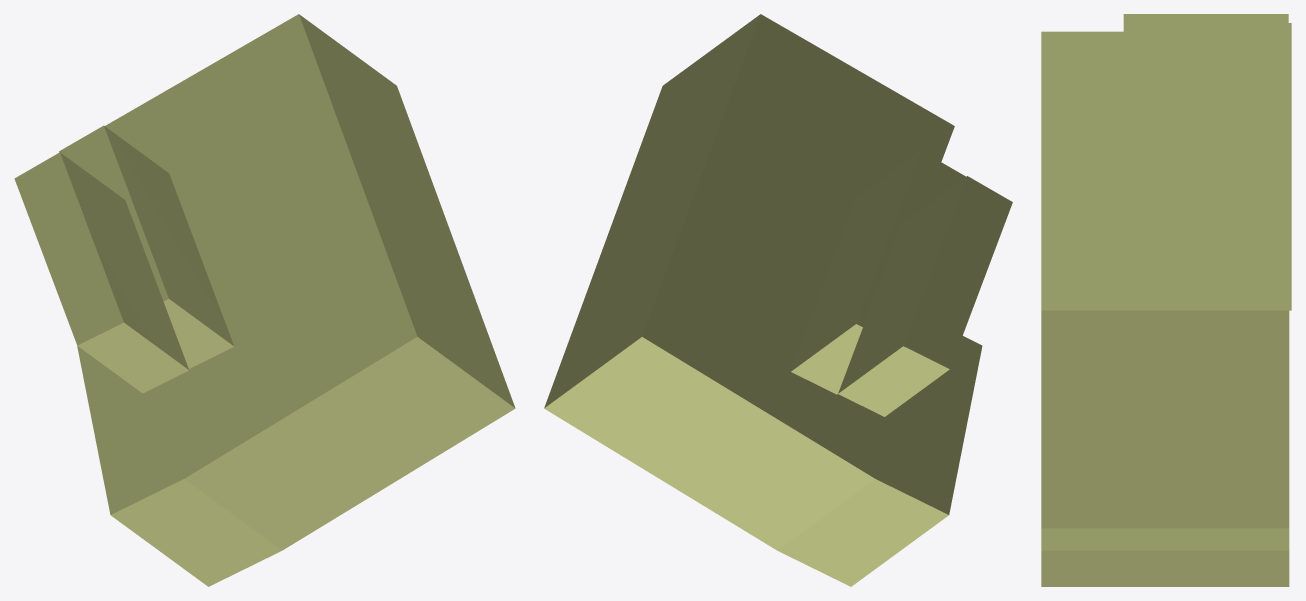
3 views of the same model, side by side, from view 1: azimuth 30°, elevation 25°; view 2: azimuth 150°, elevation 25°; view 3: azimuth 270°, elevation 25° (orthographic). The views are drawn at different scales.
Parts seen in each view (by area): view 1: 0_1_2_0_0_2_0_1_3_3; view 2: 0_1_2_0_0_2_0_1_3_3; view 3: 0_1_2_0_0_2_0_1_3_3.
Part boxes in pixels (<box>): 0_1_2_0_0_2_0_1_3_3: <box>14,14,515,586</box>; 0_1_2_0_0_2_0_1_3_3: <box>544,14,1012,586</box>; 0_1_2_0_0_2_0_1_3_3: <box>1041,14,1291,586</box>.
Bounding box in the file's own units: 21.36 × 23.04 × 9.08.
